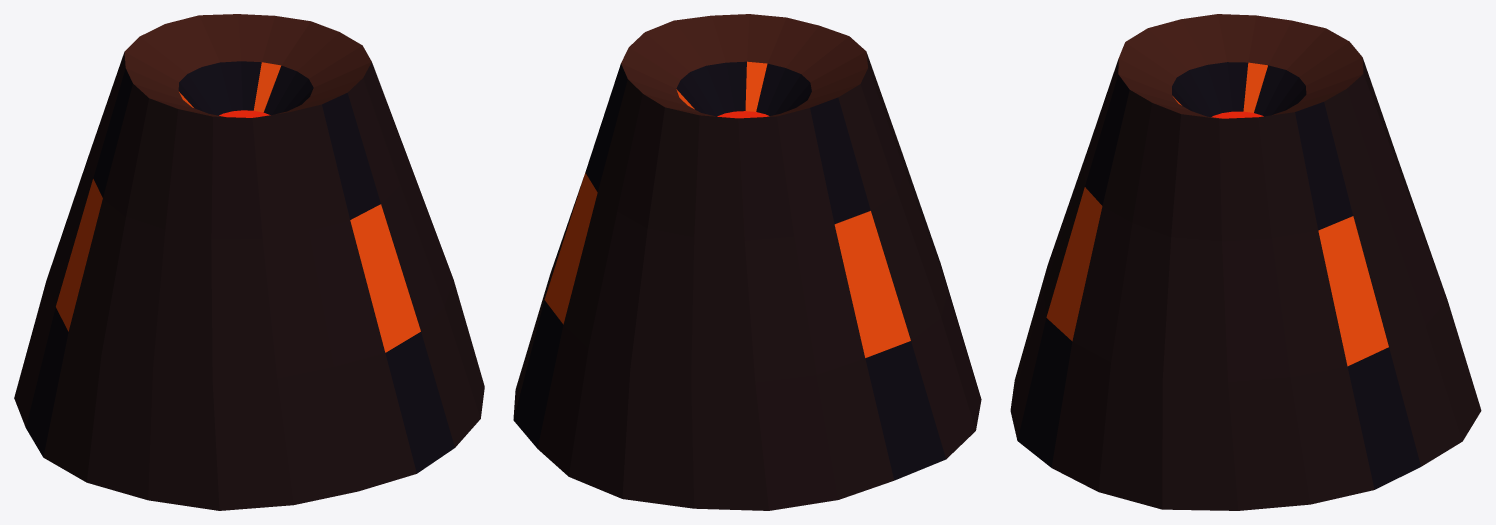
File: volcanic_spire.obj
The picture shows the model from 3 angles, left to right: view 1: azimuth 30°, elevation 25°; view 2: azimuth 150°, elevation 25°; view 3: azimuth 270°, elevation 25°; orthographic projection.
Parts seen in each view (by area): view 1: volcanic_spire; view 2: volcanic_spire; view 3: volcanic_spire.
Part boxes in pixels (<box>): volcanic_spire: <box>14,14,484,510</box>; volcanic_spire: <box>513,14,981,510</box>; volcanic_spire: <box>1010,14,1481,510</box>.
Size of the model in its own units: 15.6 by 12.85 by 15.6.
